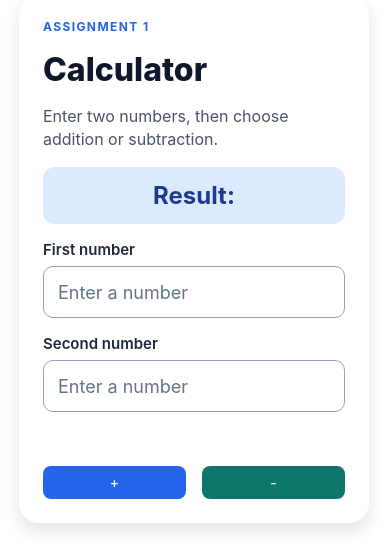
Test case: Calculator screen › adds and subtracts the entered numbers
Type "23" into the field named "First number" at (194, 292), box x1=43 y1=266 x2=345 y2=318
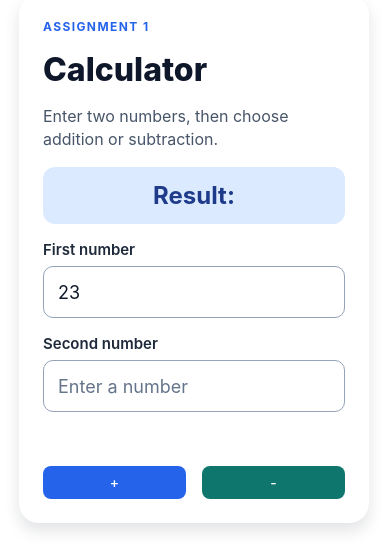
Type "12" into the field named "Second number" at (194, 386), box x1=43 y1=360 x2=345 y2=412
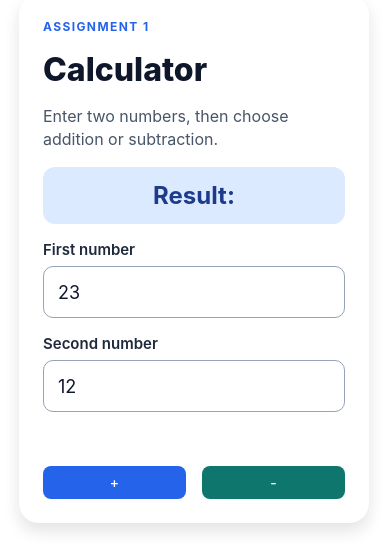
Click the button "+" at (114, 482), box x1=43 y1=466 x2=186 y2=499
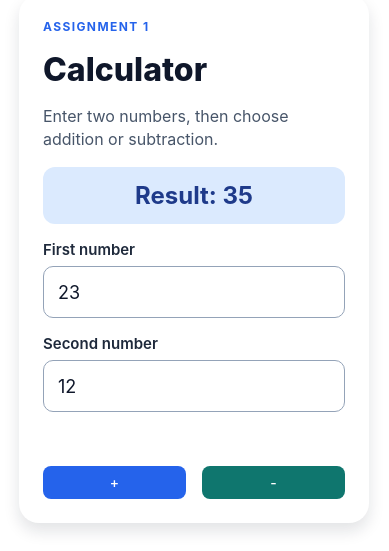
expect the text with test id "result-message" reads "Result: 35": met, box x1=135 y1=181 x2=253 y2=210
Click the button "-" at (274, 482), box x1=202 y1=466 x2=345 y2=499
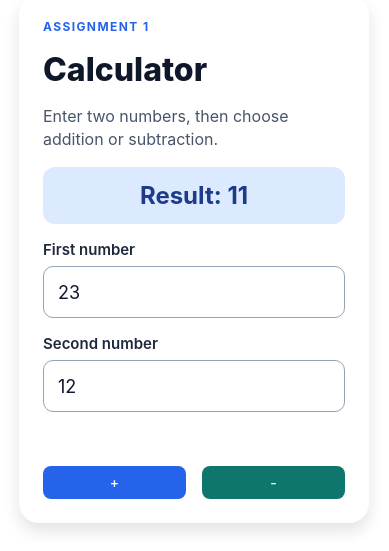
expect the text with test id "result-message" reads "Result: 11": met, box x1=140 y1=181 x2=248 y2=210
